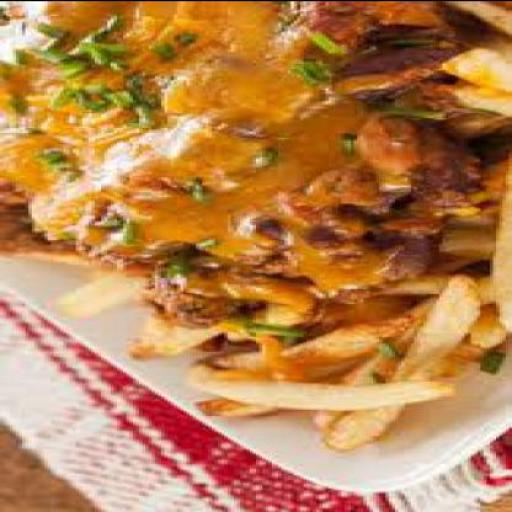biodegradable: (0, 1, 511, 449), (196, 272, 484, 415), (322, 270, 478, 446), (307, 304, 502, 426), (31, 24, 162, 126), (183, 362, 452, 405), (344, 120, 474, 201), (332, 20, 448, 102), (129, 249, 238, 331), (348, 211, 436, 278), (50, 264, 158, 316), (481, 160, 509, 334), (126, 322, 212, 360), (348, 270, 468, 297), (85, 202, 149, 244), (234, 127, 278, 176), (225, 214, 275, 254), (303, 30, 338, 76), (183, 171, 218, 209), (38, 146, 70, 184), (303, 226, 354, 248)
